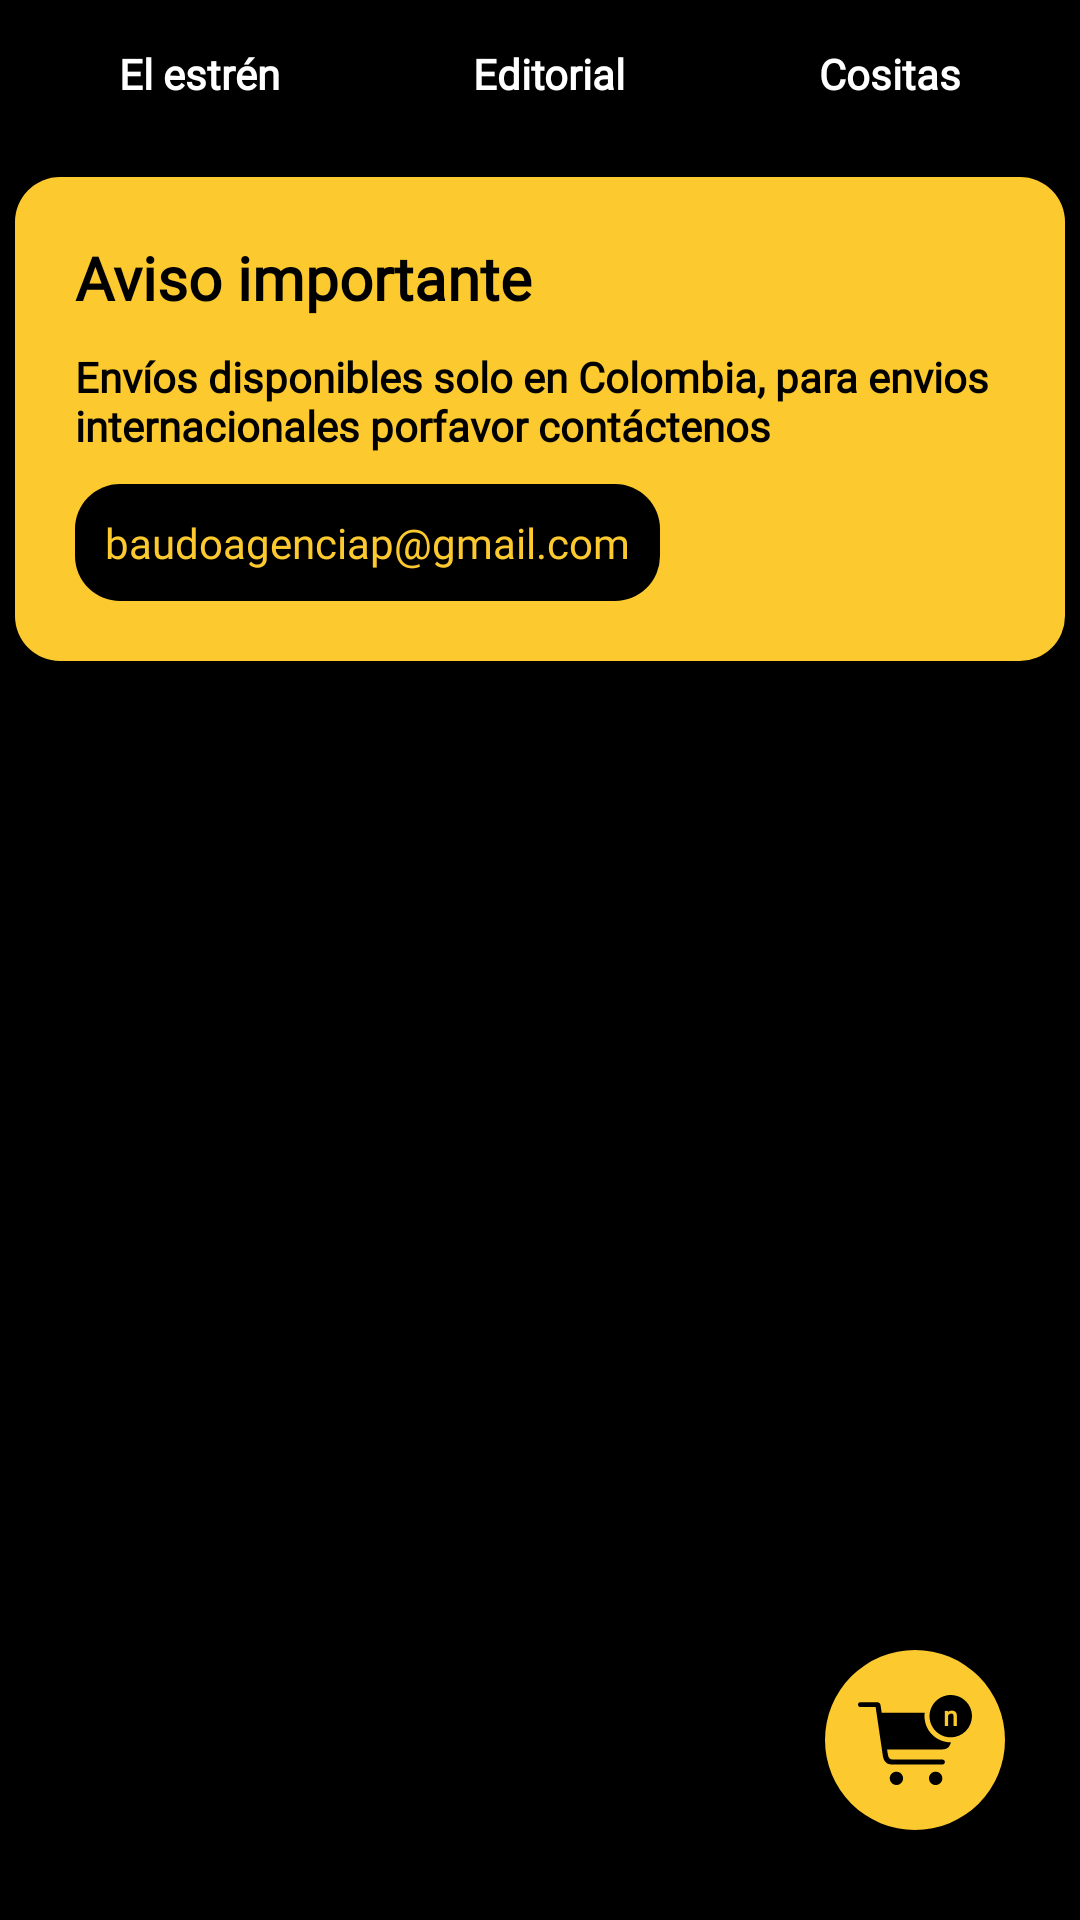

Where to tap for icons on this 1080*1920 app screen, as (x=x, y=y):
shopping cart: (x=915, y=1740)
